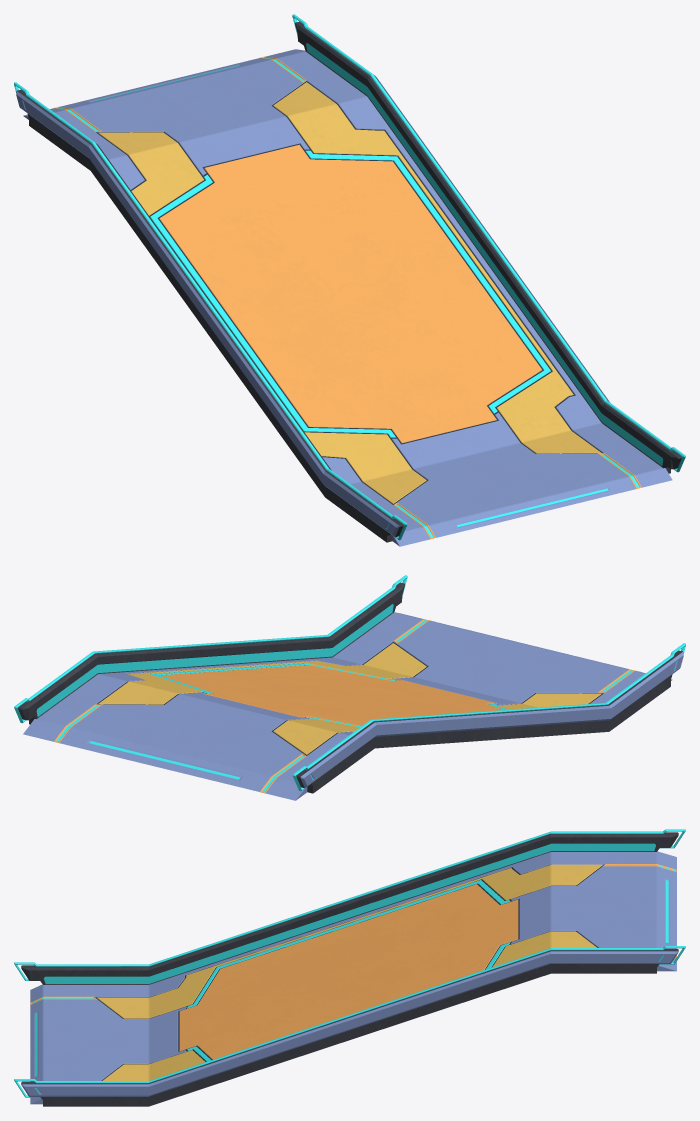
The model's file is AssetsB.fbx.
3 views of the same model, one above another, from view 1: azimuth 30°, elevation 25°; view 2: azimuth 150°, elevation 25°; view 3: azimuth 270°, elevation 25° (orthographic). The views are drawn at different scales.
Visible parts, largest first — view 1: SM_VA_AssetsB.mo; view 2: SM_VA_AssetsB.mo; view 3: SM_VA_AssetsB.mo.
Part boxes in pixels (x1,y1,x2,y2): SM_VA_AssetsB.mo: (14,14,685,546); SM_VA_AssetsB.mo: (14,575,685,800); SM_VA_AssetsB.mo: (14,829,685,1106).
Bounding box in the file's own units: 7.6 × 4.68 × 17.91.
